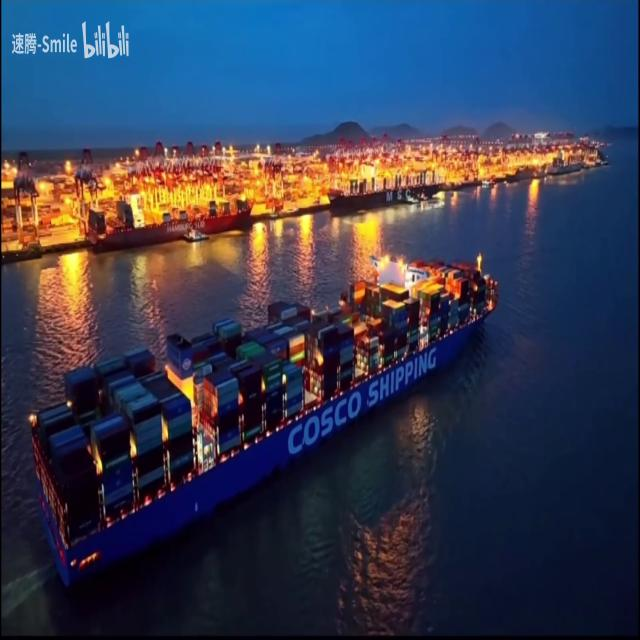cargoship: (19, 252, 498, 584)
